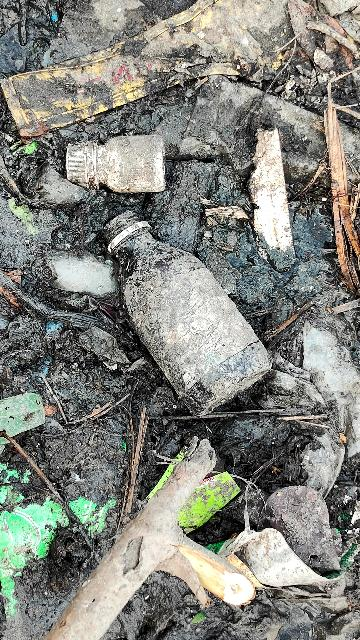bottle: (78, 194, 287, 427)
